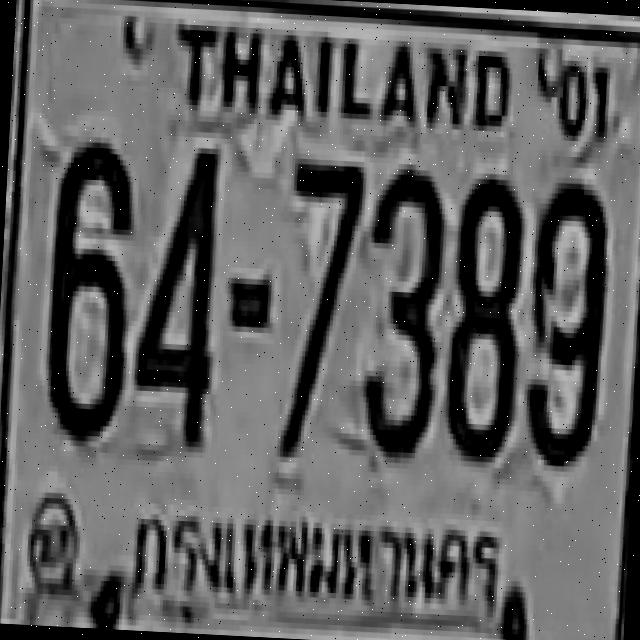3: (356, 160, 446, 456)
4: (130, 138, 220, 444)
6: (42, 136, 136, 444)
7: (278, 153, 364, 455)
8: (440, 167, 524, 458)
9: (522, 174, 610, 466)
Bangkok: (118, 484, 508, 636)
